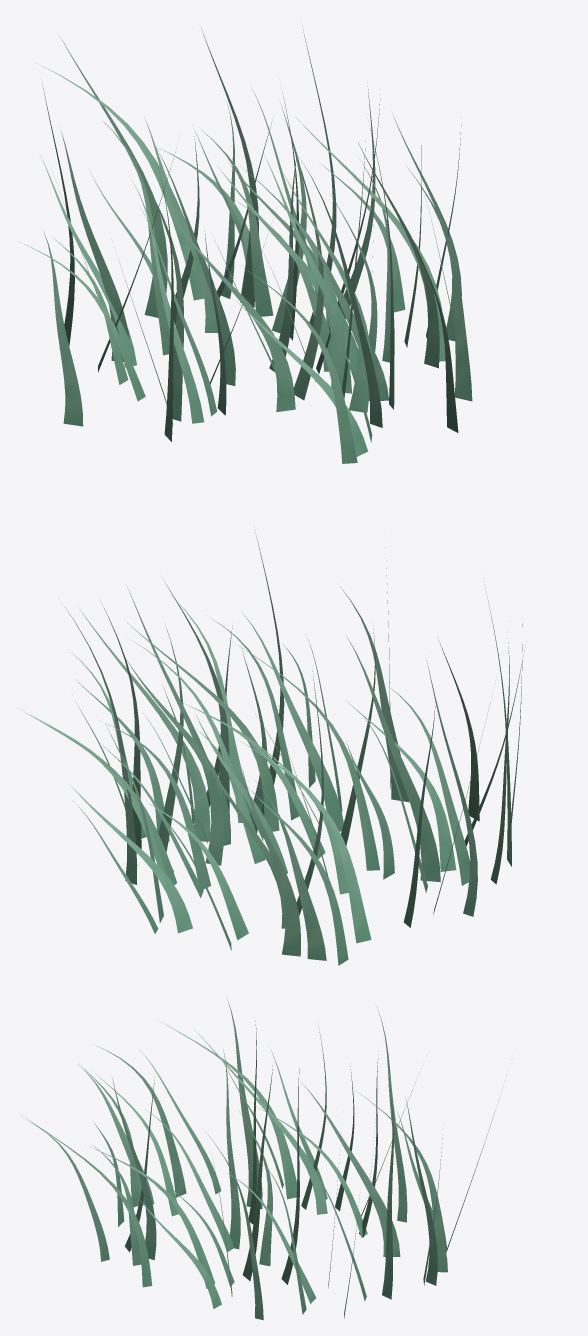
Rendered from mesh-plant-008-golden-ribbon_LOD0.glb.
The picture shows the model from 3 angles, top to bottom: view 1: azimuth 30°, elevation 25°; view 2: azimuth 150°, elevation 25°; view 3: azimuth 270°, elevation 25°; orthographic projection. The views are drawn at different scales.
Parts seen in each view (by area): view 1: geometry_0; view 2: geometry_0; view 3: geometry_0.
Part boxes in pixels (x1,y1,x2,y2): geometry_0: (20, 26, 472, 463); geometry_0: (19, 529, 524, 965); geometry_0: (20, 997, 499, 1320).
Size of the model in its own units: 2.26 by 1.08 by 2.86.
